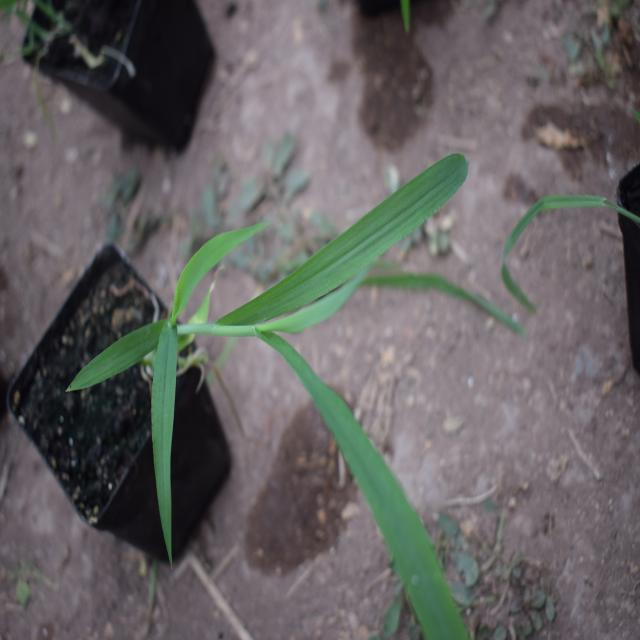crabgrass: (106, 164, 484, 622)
